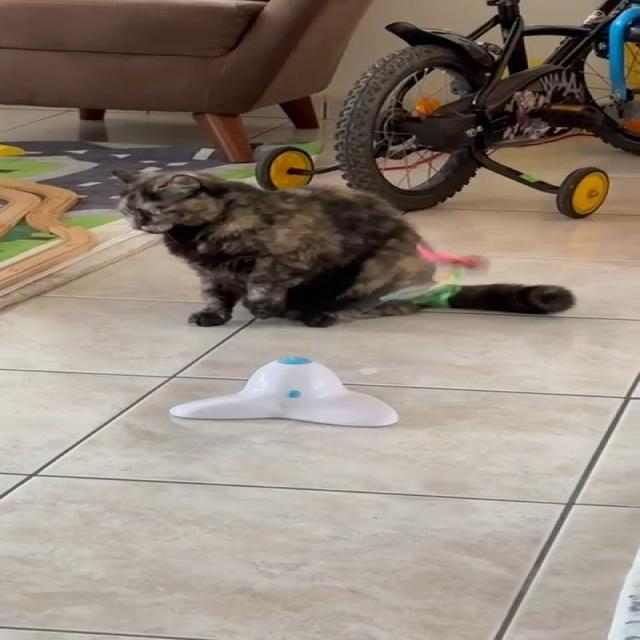authorized: (110, 165, 574, 328)
